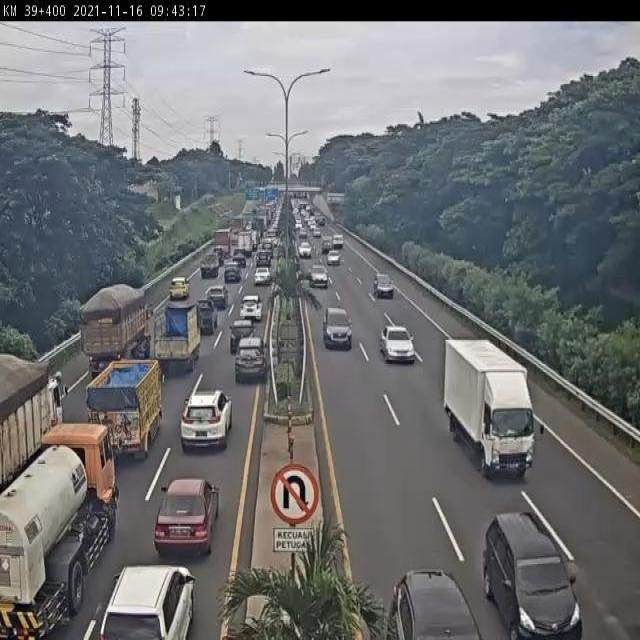Car: (482, 506, 583, 640), (95, 563, 197, 640), (387, 567, 483, 639), (154, 478, 220, 559), (180, 384, 232, 450), (234, 335, 268, 382), (379, 323, 415, 363), (322, 306, 354, 351), (228, 318, 256, 355), (240, 294, 264, 322), (205, 285, 229, 310), (373, 272, 394, 299), (169, 277, 190, 300), (309, 264, 329, 288), (253, 266, 272, 286), (224, 262, 242, 283), (256, 248, 272, 266), (213, 245, 225, 265), (298, 241, 312, 258), (321, 237, 334, 254), (327, 250, 341, 265), (261, 238, 274, 254), (312, 227, 321, 239), (299, 227, 308, 238), (294, 218, 302, 229), (309, 222, 318, 231)
Truck: (0, 416, 118, 639), (442, 339, 534, 478), (0, 352, 70, 485), (82, 356, 164, 464), (78, 281, 154, 381), (151, 296, 203, 372), (195, 298, 218, 334), (214, 227, 233, 256), (200, 253, 220, 279), (236, 231, 254, 257), (232, 246, 248, 266), (332, 234, 343, 251)
